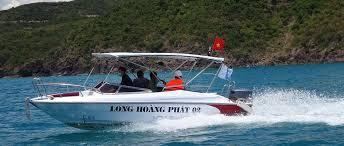Ship: (26, 54, 254, 129)
